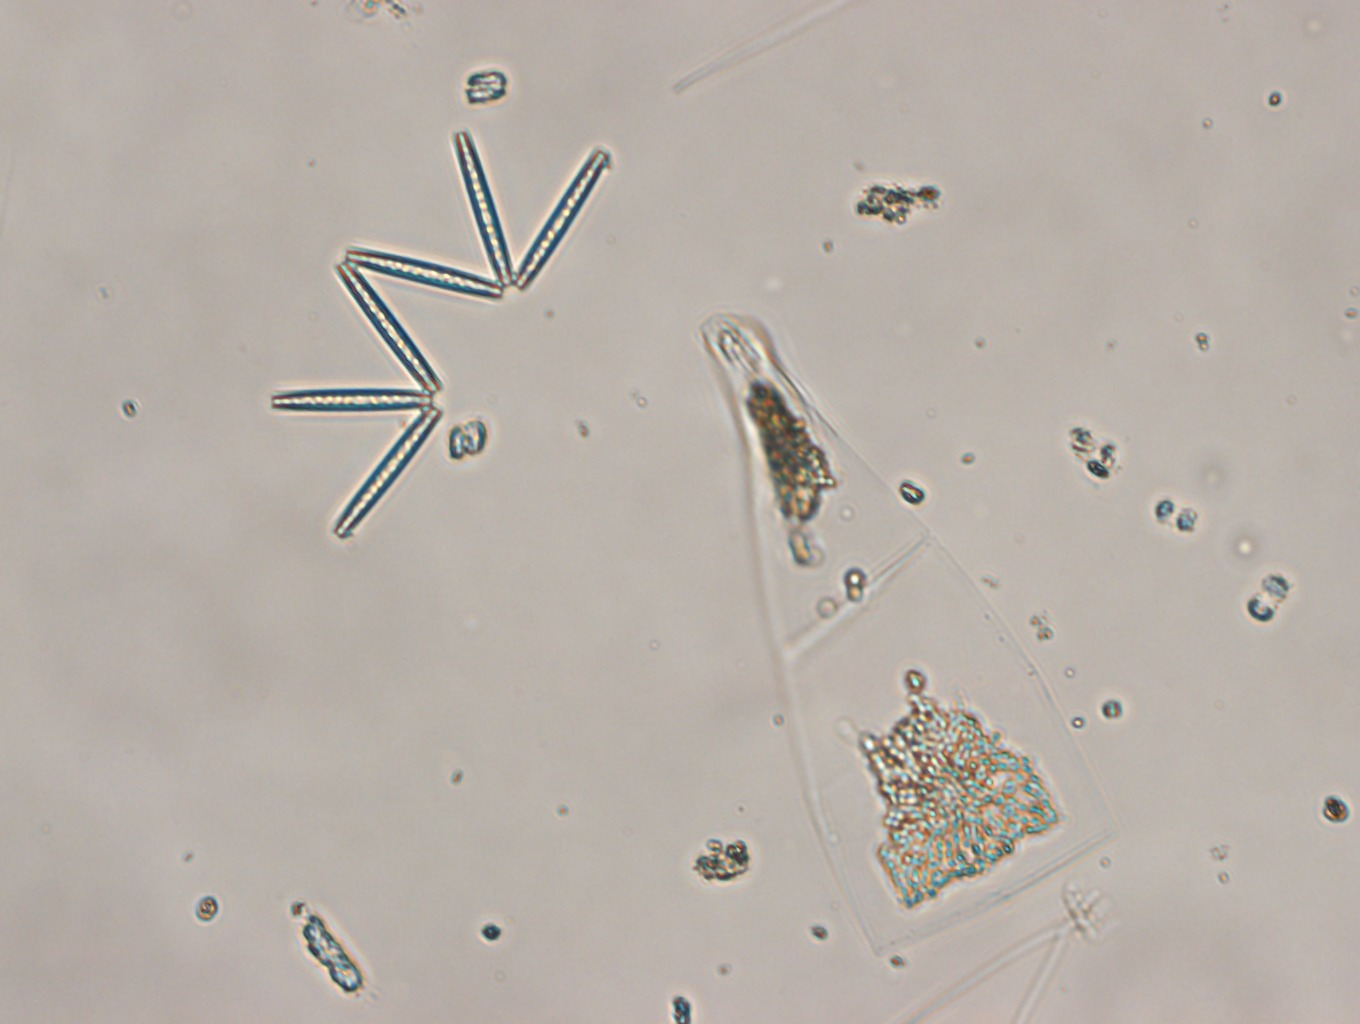helicotheca: (686, 299, 1115, 944)
thalassionema nitzschioides: (240, 113, 626, 549)
